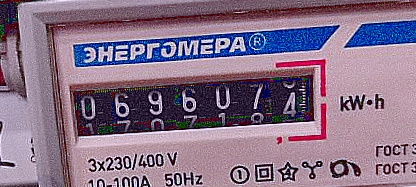0: (76, 92, 99, 122), (213, 81, 232, 111), (112, 90, 131, 117)
4: (279, 90, 298, 119)
6: (178, 83, 197, 114)
7: (246, 80, 265, 110)
9: (145, 87, 165, 116)
screen: (54, 55, 332, 156)
